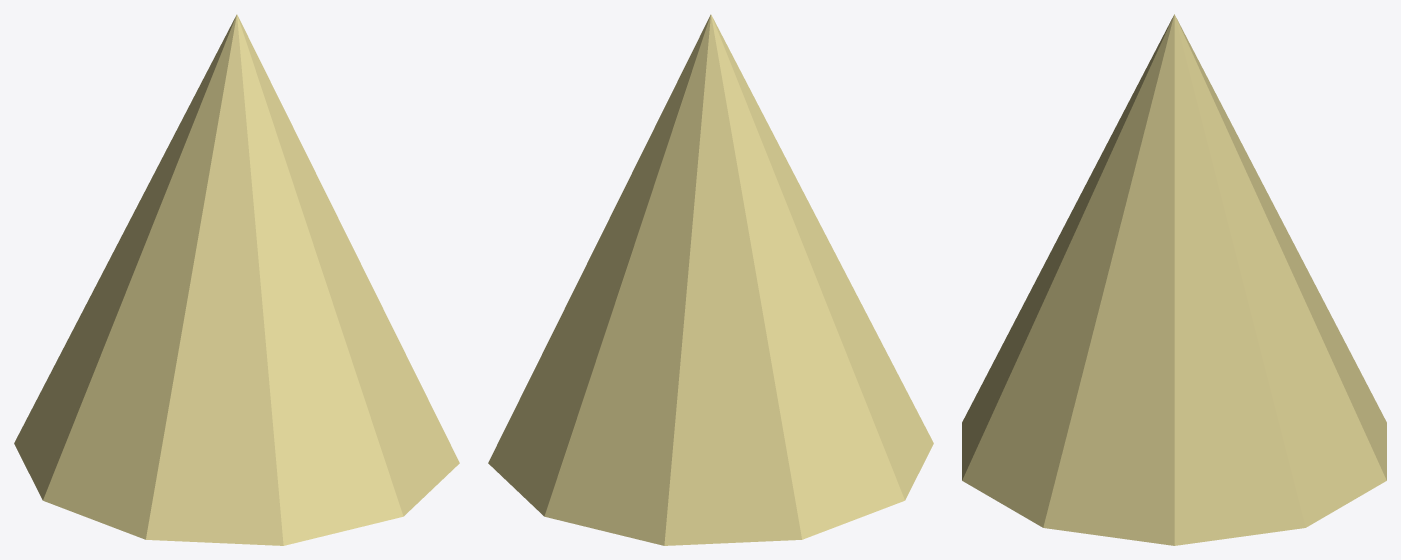
File: simbolo_2_cono.glb
3 renders of one model, left to right at view 1: azimuth 30°, elevation 25°; view 2: azimuth 150°, elevation 25°; view 3: azimuth 270°, elevation 25°, orthographic.
Visible parts, largest first — view 1: simbolo_2_cono; view 2: simbolo_2_cono; view 3: simbolo_2_cono.
Boxes of the visible parts, x1,y1,x2,y2 form: simbolo_2_cono: (14, 14, 459, 545); simbolo_2_cono: (488, 14, 933, 545); simbolo_2_cono: (962, 14, 1386, 545).
Size of the model in its own units: 0.74 by 0.8 by 0.7038.
